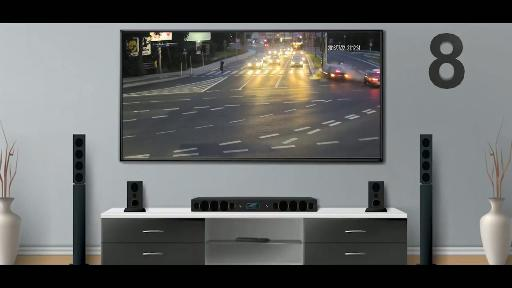CAR: (101, 30, 395, 167)
